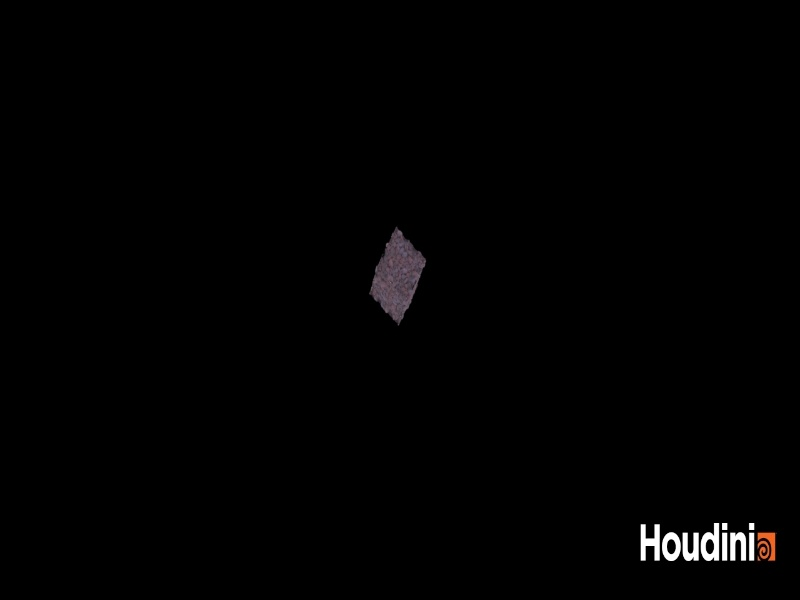waste: (364, 215, 432, 336)
